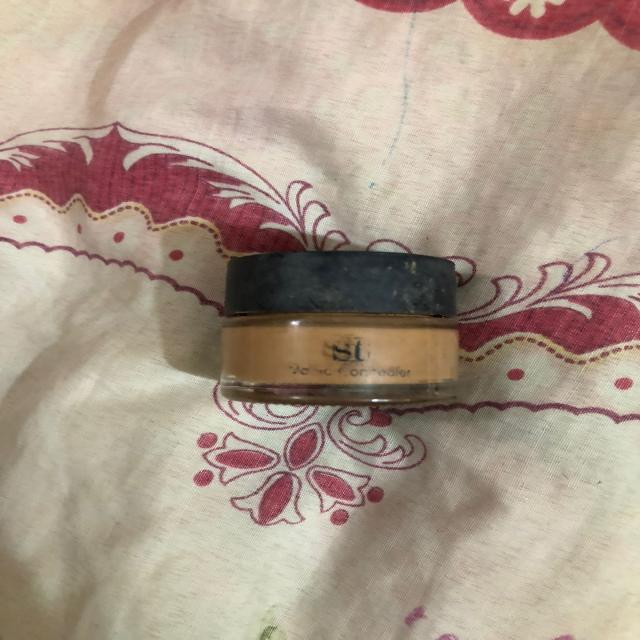foundation: (203, 223, 503, 446)
